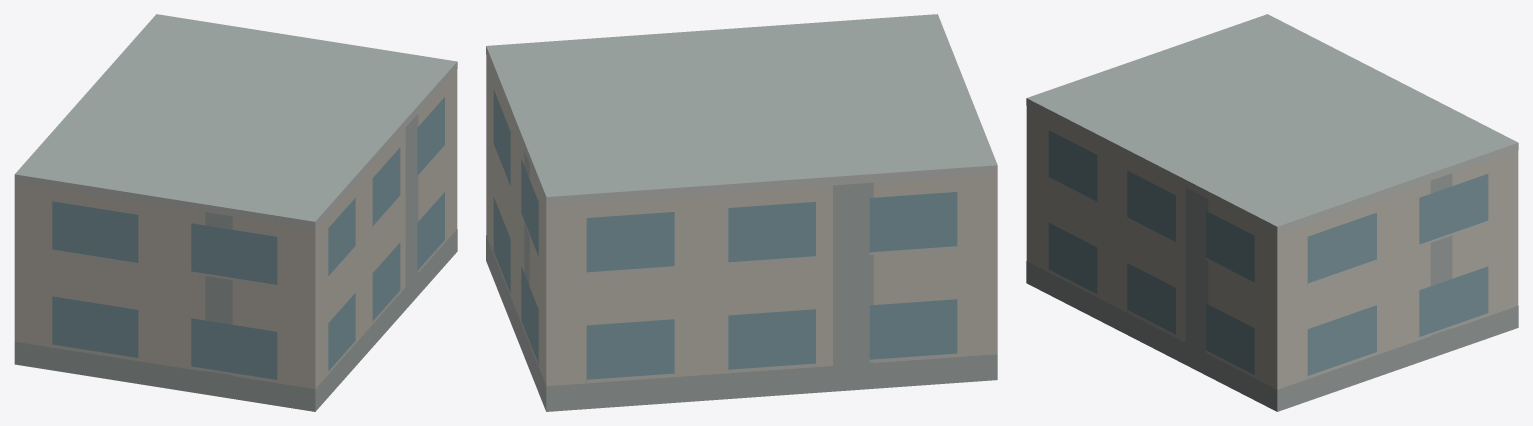
Rendered from residential-4eac3f01-c204-48b8-b607-7dc5580c9ac7.glb.
3 renders of one model, left to right at view 1: azimuth 30°, elevation 25°; view 2: azimuth 150°, elevation 25°; view 3: azimuth 270°, elevation 25°, orthographic. The views are drawn at different scales.
Parts seen in each view (by area): view 1: residential-4eac3f01-c204-48b8-b607-7dc5580c9ac7.tmp; view 2: residential-4eac3f01-c204-48b8-b607-7dc5580c9ac7.tmp; view 3: residential-4eac3f01-c204-48b8-b607-7dc5580c9ac7.tmp.
Boxes of the visible parts, <box> form: residential-4eac3f01-c204-48b8-b607-7dc5580c9ac7.tmp: <box>14,14,457,411</box>; residential-4eac3f01-c204-48b8-b607-7dc5580c9ac7.tmp: <box>486,14,997,411</box>; residential-4eac3f01-c204-48b8-b607-7dc5580c9ac7.tmp: <box>1026,14,1518,411</box>.
Size of the model in its own units: 15.05 by 6.1 by 14.7.
